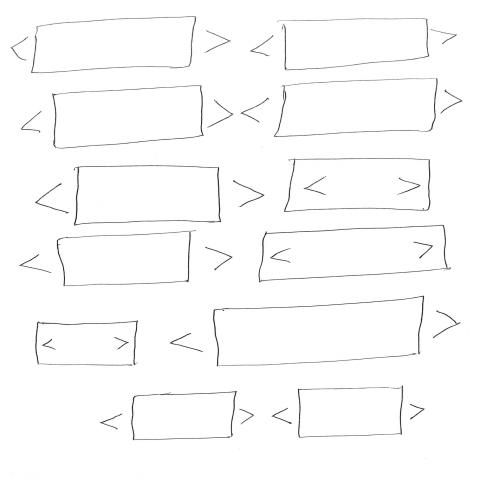Carousel: (169, 295, 462, 368), (36, 165, 267, 226), (20, 86, 234, 151), (242, 79, 467, 140), (11, 16, 232, 75), (18, 231, 234, 289), (248, 18, 460, 72), (257, 225, 450, 284), (281, 158, 434, 213), (271, 387, 429, 439), (98, 390, 254, 442), (35, 321, 140, 368)
